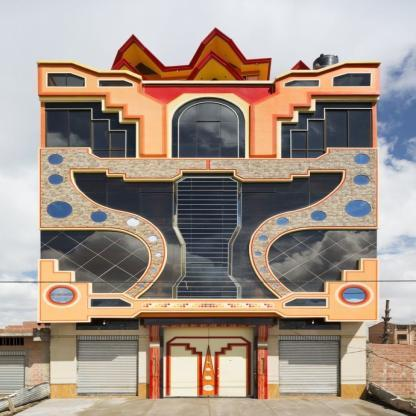Building Outline: (37, 27, 381, 399)
Cornice: (37, 60, 142, 81), (275, 60, 381, 80)
Door: (164, 328, 253, 398), (77, 335, 138, 397), (279, 335, 340, 396)
Facade: (38, 26, 380, 400)
Glass Wall: (74, 172, 342, 299)
Roof: (110, 26, 271, 80), (186, 50, 247, 81), (110, 58, 148, 80), (290, 59, 311, 70)
Window: (268, 229, 377, 292), (40, 231, 149, 293), (282, 102, 373, 158), (45, 102, 136, 157), (171, 98, 245, 158), (76, 318, 139, 330), (279, 319, 341, 330), (333, 73, 371, 86), (48, 73, 84, 86), (90, 299, 131, 307), (285, 299, 326, 306), (99, 80, 133, 86), (285, 80, 319, 86)
